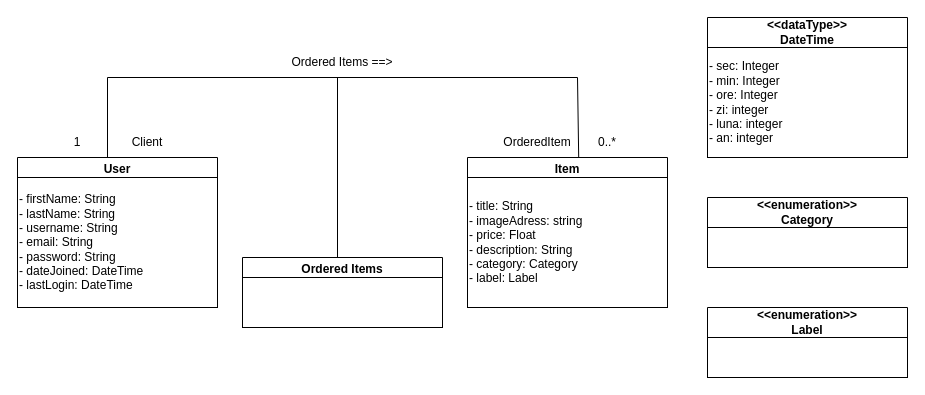
This 925x395 diagram has some shape labels left out. Each missing label, with the centre of its shape:
"- size: Strings - quantity: Integer" goes at point (342, 302).
"Danger, Primary" goes at point (807, 357).
"Shirts, Sport Wear, Out Wear" goes at point (807, 247).
